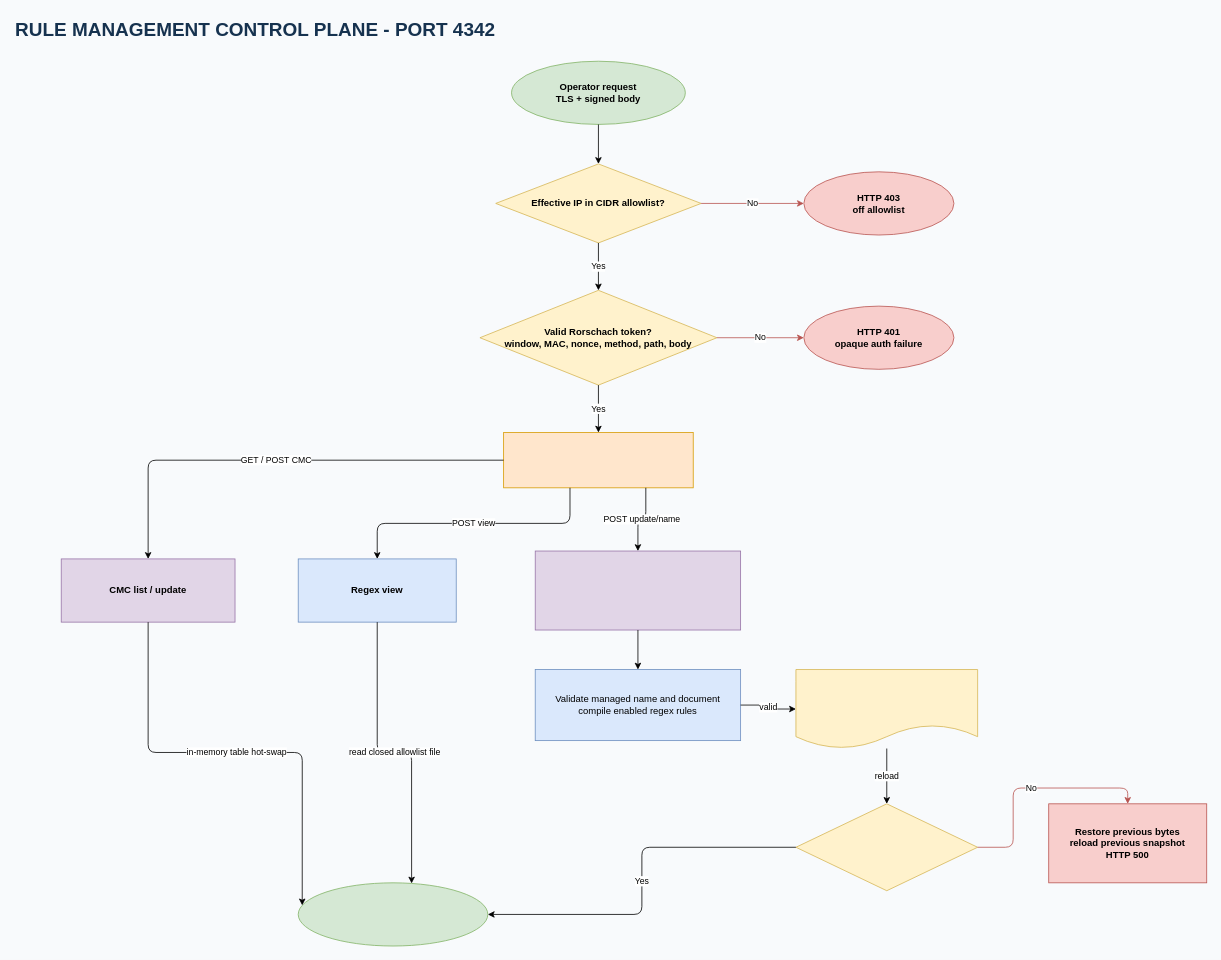
The diagram is 1221 pixels wide and 960 high, and some of its shapes have lost their labels. Here are the shapes that lost their labels. From the top down, the centre of each, then its label:
(x=598, y=460): Dispatch closed endpoint set
(x=637, y=590): Regex / keyword / scanner update
(x=886, y=709): Stage temp file + atomic rename retain previous bytes
(x=886, y=847): Reload succeeded? atomic live snapshot swap
(x=392, y=914): HTTP 200 JSON live state / updated counts
